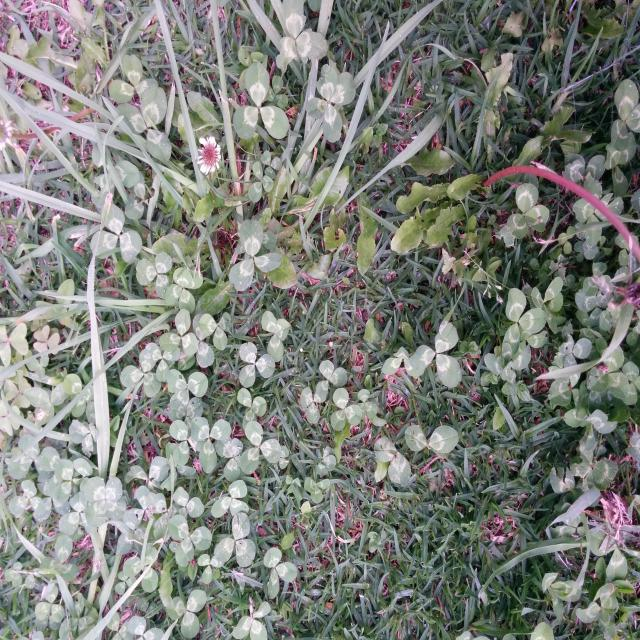Four Leaf Clover: (306, 64, 356, 143), (572, 177, 624, 247), (84, 476, 126, 527), (165, 267, 203, 314)
